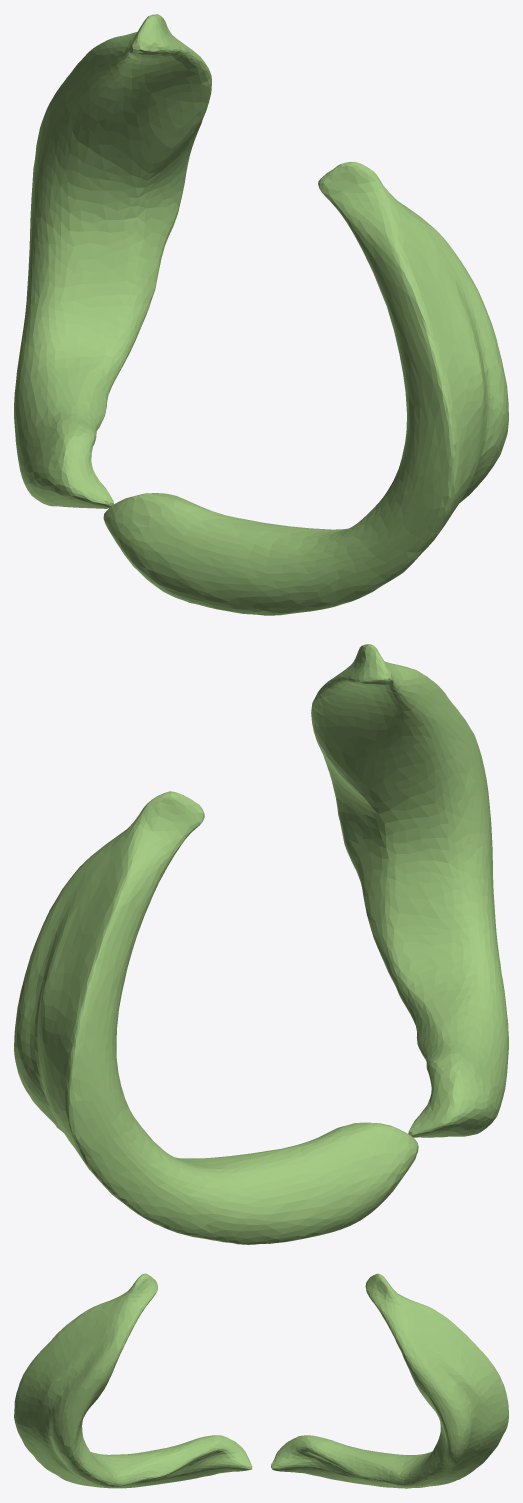
The picture shows the model from 3 angles, top to bottom: view 1: azimuth 30°, elevation 25°; view 2: azimuth 150°, elevation 25°; view 3: azimuth 270°, elevation 25°; orthographic projection. The views are drawn at different scales.
Visible parts, largest first — view 1: 463.obj; view 2: 463.obj; view 3: 463.obj.
Boxes of the visible parts, bbox=[...] form: 463.obj: bbox=[14, 14, 508, 615]; 463.obj: bbox=[14, 644, 508, 1244]; 463.obj: bbox=[14, 1273, 508, 1488].
Bounding box in the file's own units: 2811 × 4257 × 7665.
